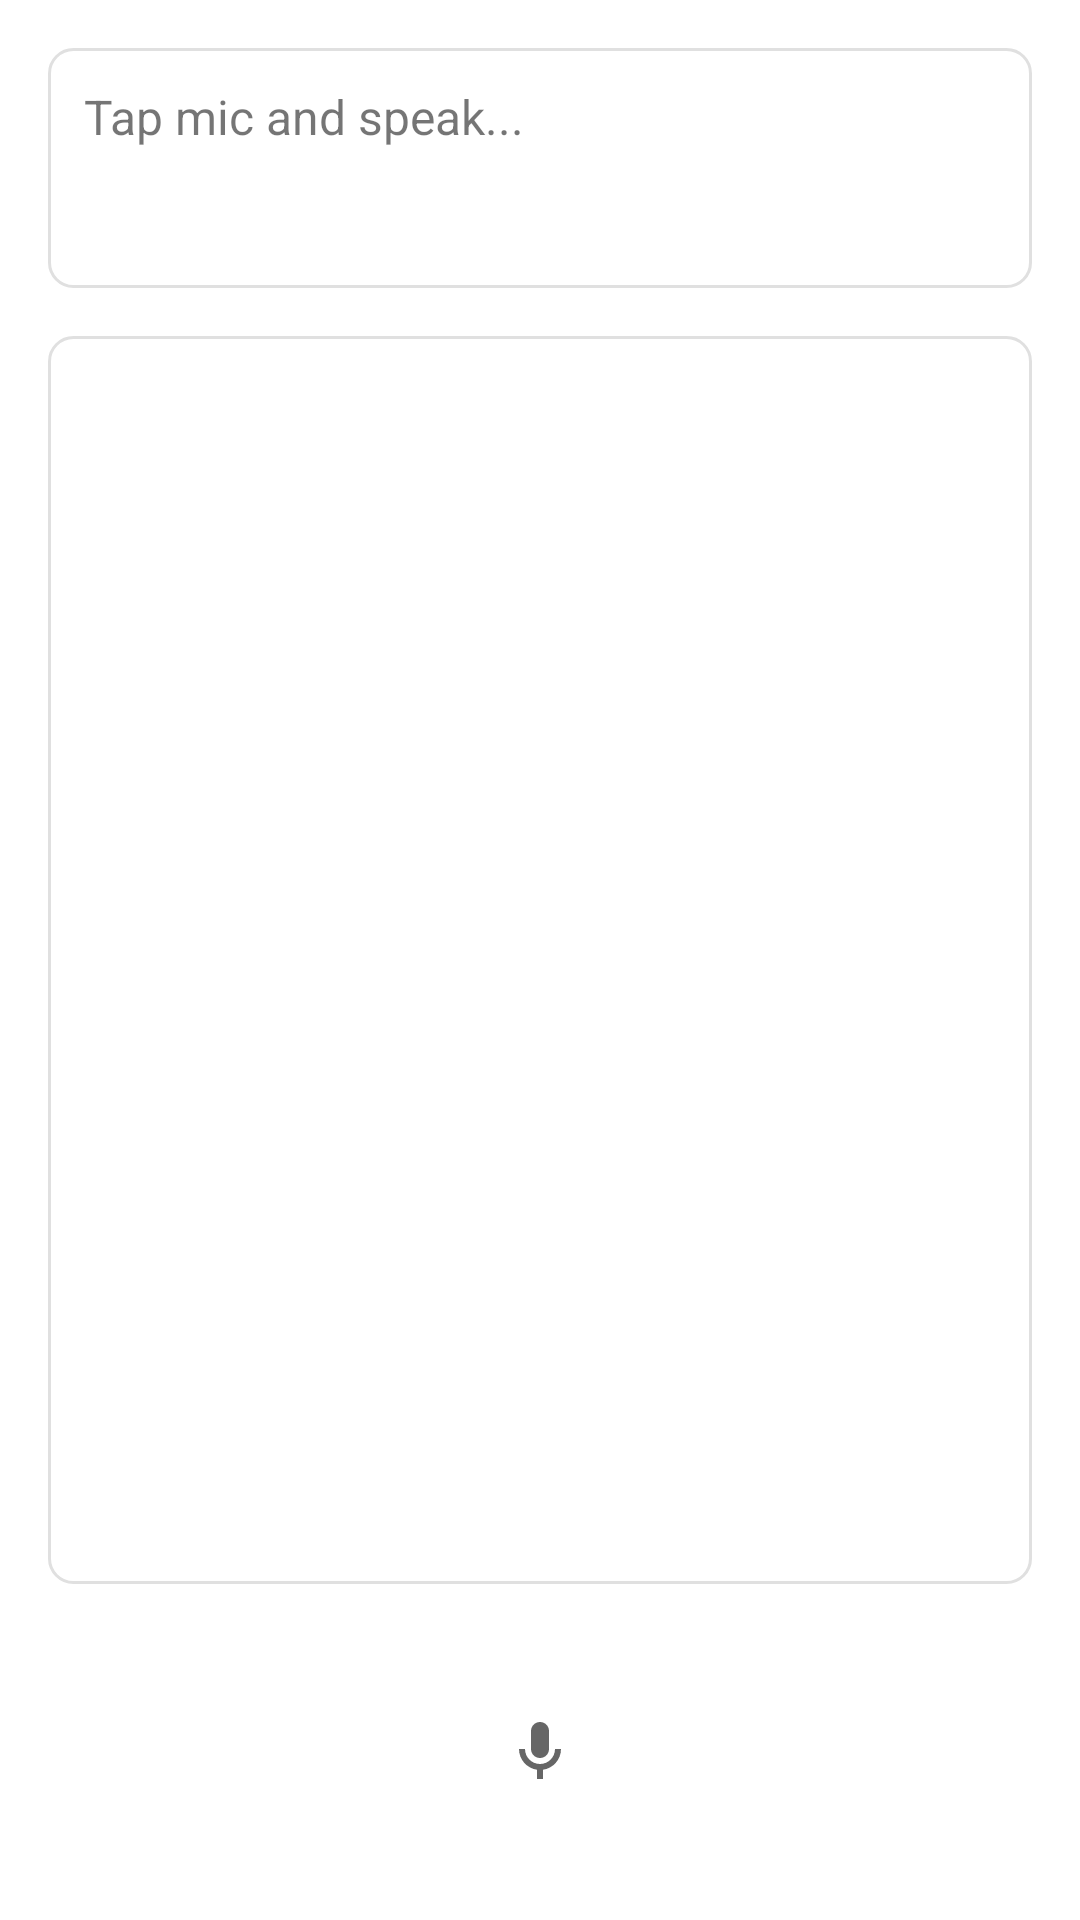

Screen size 1080 x 1920. Icon name, then its box in pixels as bbox(x1, y1, x2, y2):
Mic: bbox(519, 1722, 561, 1779)
